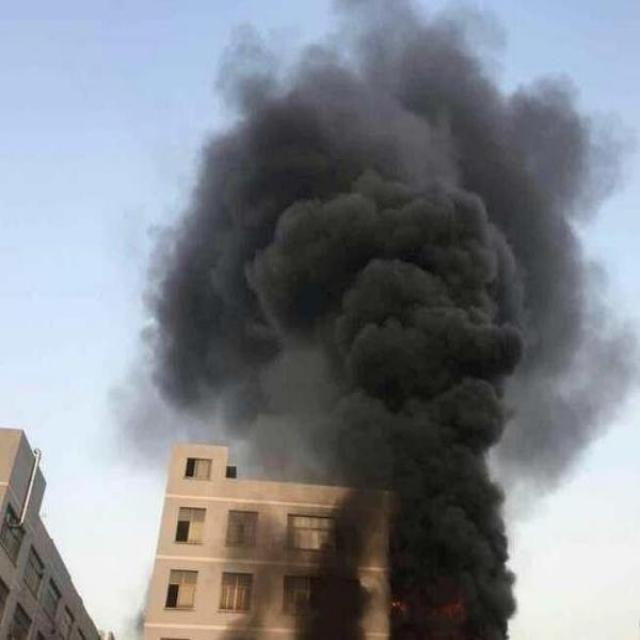Smoke: (107, 1, 640, 640)
